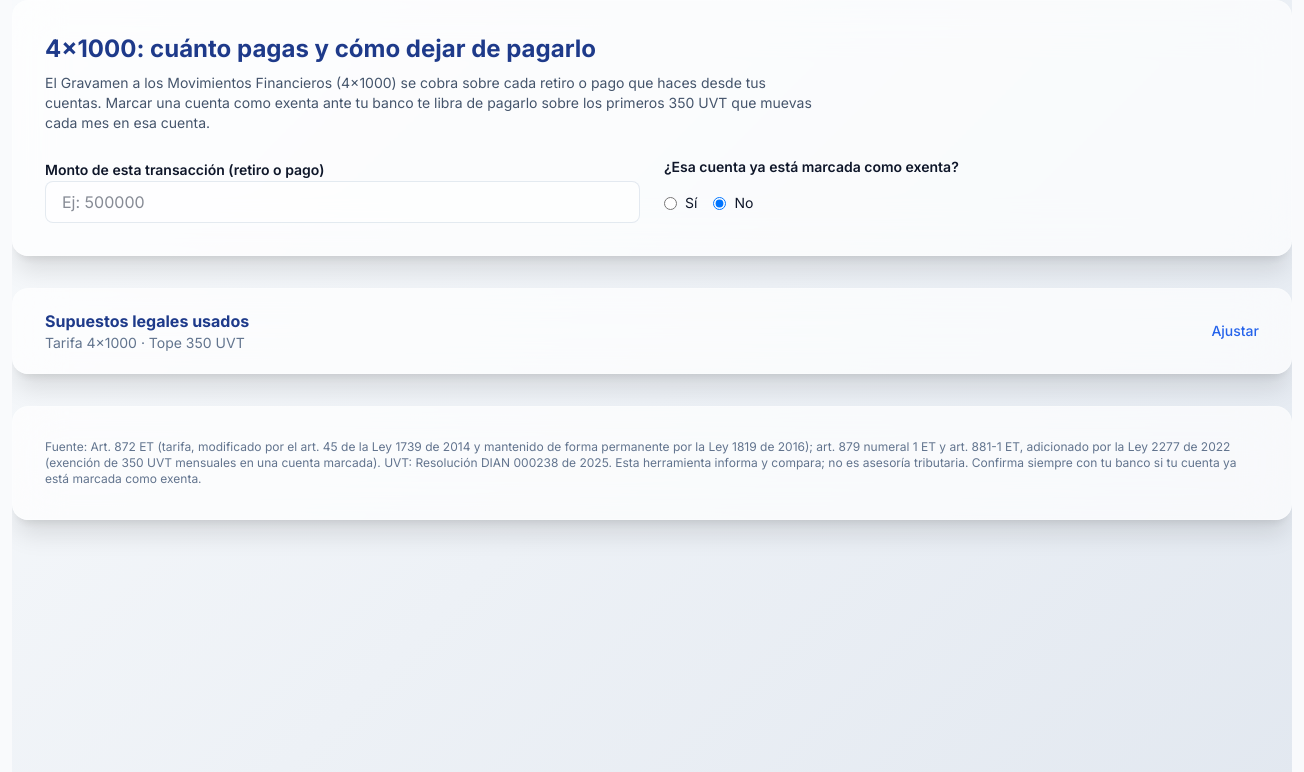
CalculadoraGMF › con la cuenta marcada y una transacción bajo el tope, no paga GMF
Click the radio button labelled "Sí". click: (670,203)
box: x1=664 y1=196 x2=677 y2=210
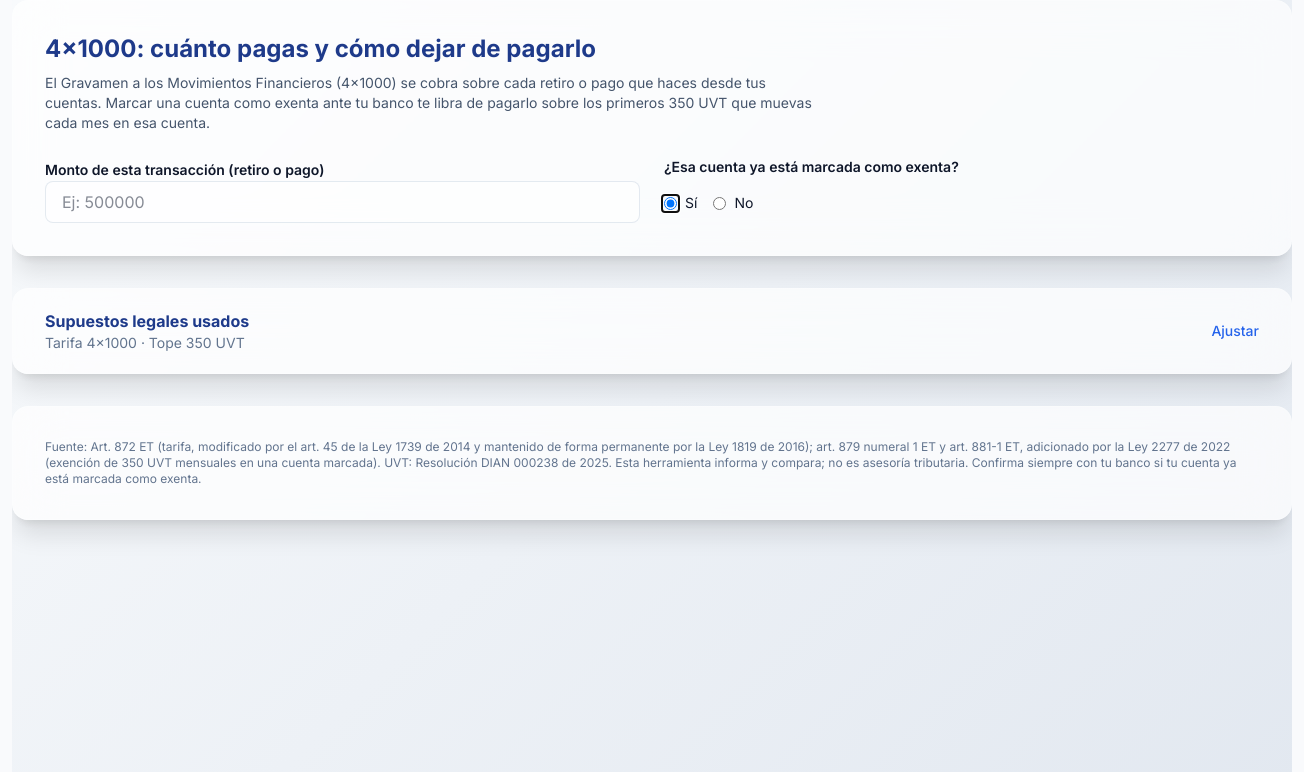
Type "5000000" into the number field labelled "Monto de esta transacción (retiro o pago)". click: (342,202)
box: x1=45 y1=181 x2=640 y2=223
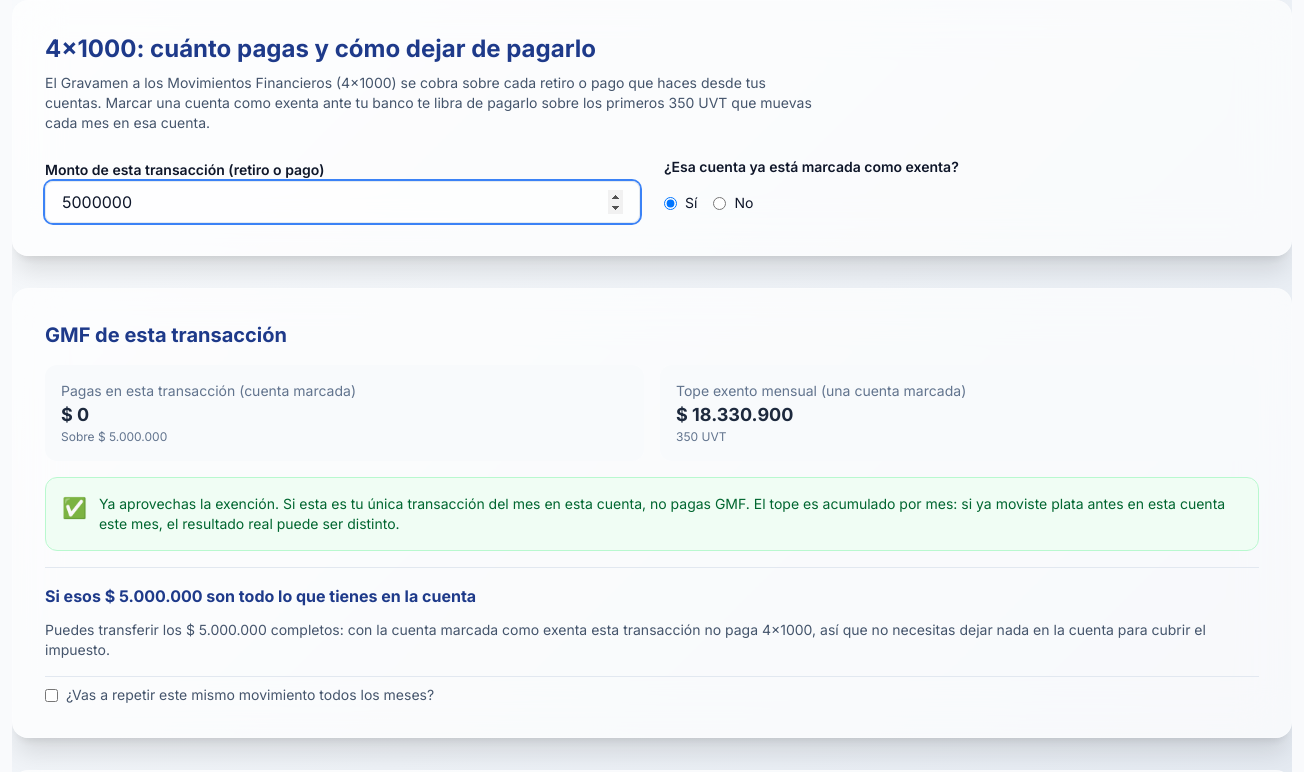
Expected: the text "no pagas gmf" is shown, x1=283 y1=495 x2=750 y2=512
